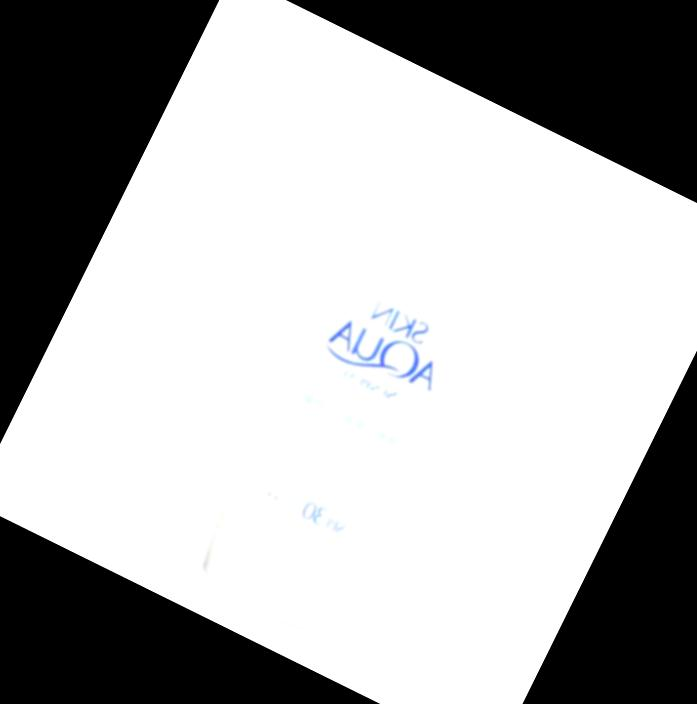cosmetic: (188, 111, 560, 635)
